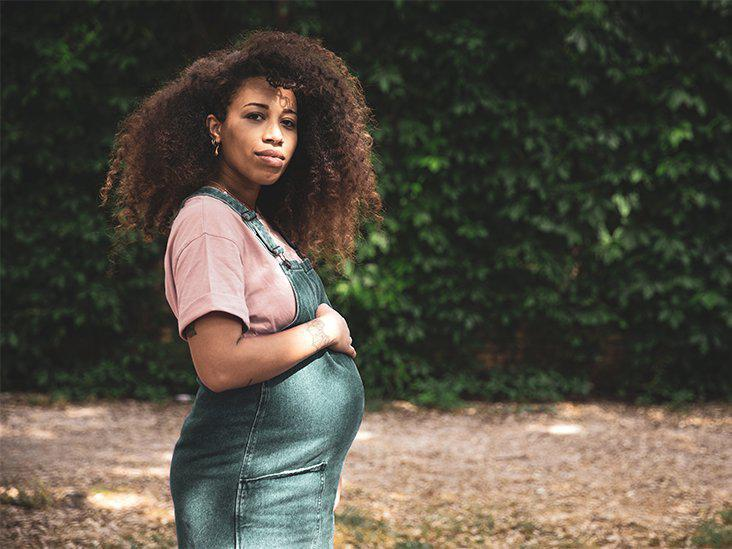Sober: (218, 79, 296, 176)
